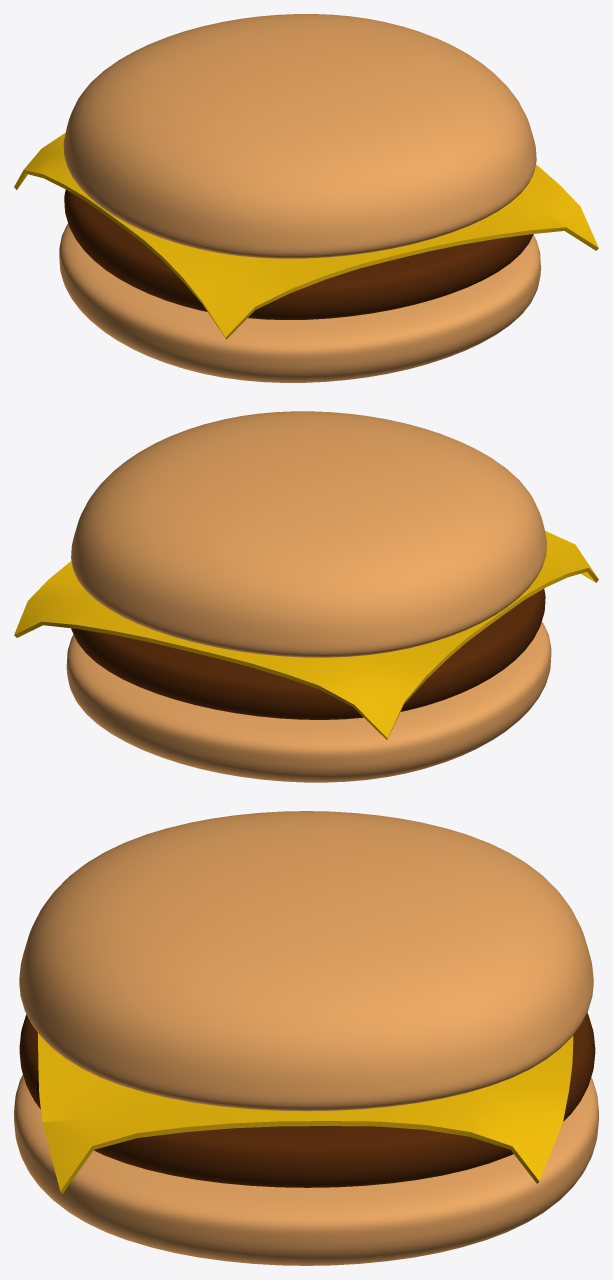
File: burger.glb
The picture shows the model from 3 angles, top to bottom: view 1: azimuth 30°, elevation 25°; view 2: azimuth 150°, elevation 25°; view 3: azimuth 270°, elevation 25°; orthographic projection. The views are drawn at different scales.
Visible parts, largest first — view 1: Cube.002, Cube, Plane, Cube.001; view 2: Cube.002, Cube, Cube.001, Plane; view 3: Cube.002, Cube, Plane, Cube.001.
Part boxes in pixels (box(x1,y1,x2,y2)): Cube.002: box(63, 14, 536, 258); Cube: box(59, 223, 540, 382); Plane: box(14, 133, 598, 339); Cube.001: box(64, 190, 533, 319); Cube.002: box(71, 411, 546, 657); Cube: box(66, 621, 551, 782); Cube.001: box(71, 589, 545, 719); Plane: box(14, 531, 598, 739); Cube.002: box(19, 811, 593, 1111); Cube: box(14, 1075, 598, 1265); Plane: box(38, 1033, 573, 1193); Cube.001: box(19, 1013, 595, 1187).
Bounding box in the file's own units: 2.12 × 1.2 × 2.12.
